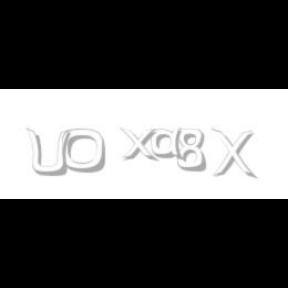8: (178, 128, 206, 172)
O: (62, 128, 106, 174)
U: (25, 128, 70, 178)
X: (211, 128, 255, 180)
a: (150, 128, 188, 160)
x: (120, 128, 162, 162)
